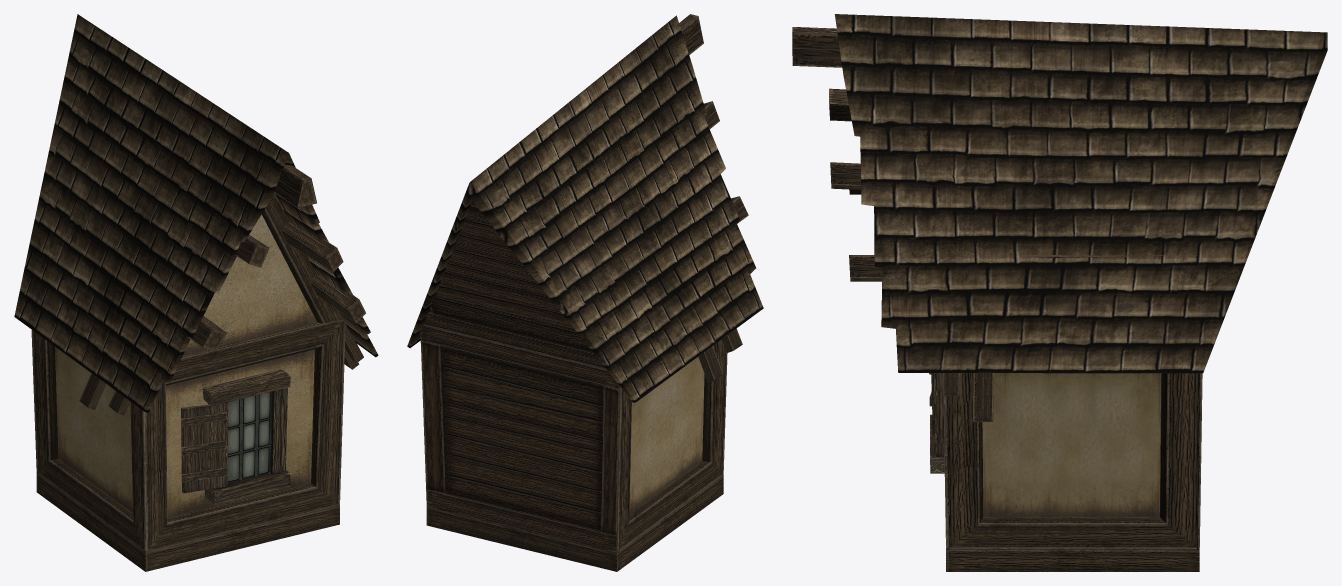
The model's file is Window_a05.fbx.
3 views of the same model, side by side, from view 1: azimuth 30°, elevation 25°; view 2: azimuth 150°, elevation 25°; view 3: azimuth 270°, elevation 25° (orthographic). The views are drawn at different scales.
Visible parts, largest first — view 1: Window_a05; view 2: Window_a05; view 3: Window_a05.
Part boxes in pixels (x1,y1,x2,y2): Window_a05: (14,14,378,571); Window_a05: (407,14,763,571); Window_a05: (792,14,1327,571).
Bounding box in the file's own units: 3.86 × 6.26 × 6.06.
